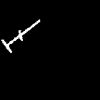double_crochet: (2, 20, 39, 51)
